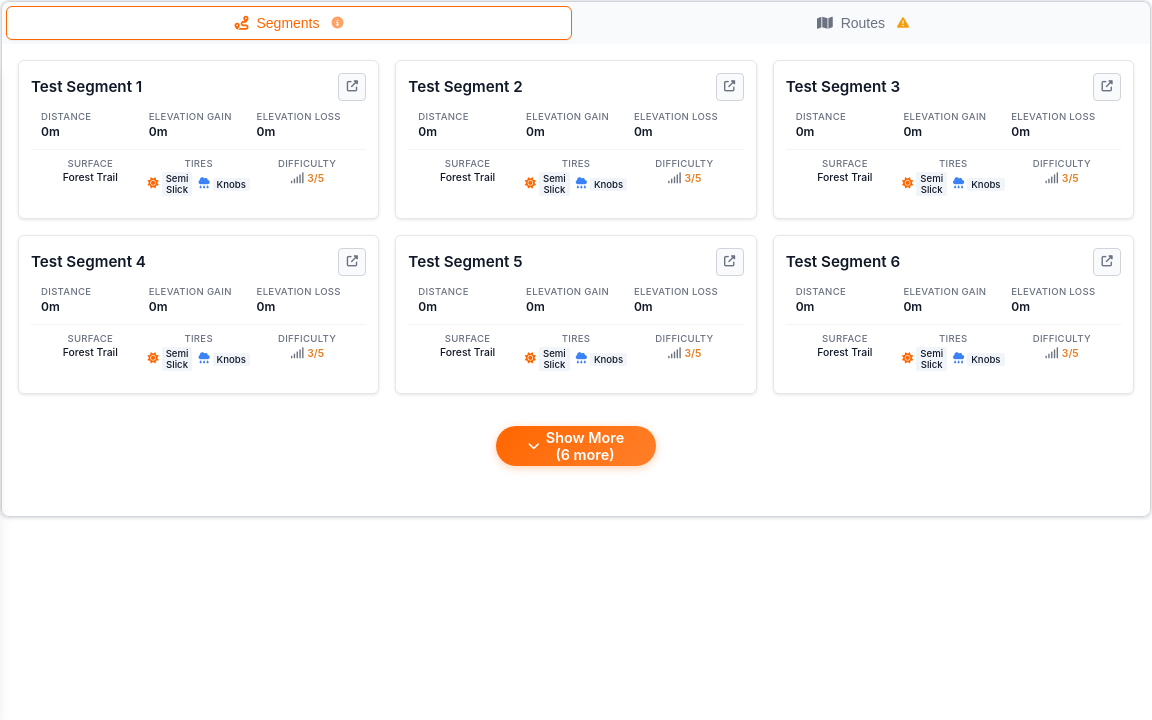
Test: SegmentList › Show More/Less Button Functionality › should show "Show Less" text when expanded
Click the button with class "show-more-button". click: (576,446)
box: [496, 426, 656, 466]
(page scrolled)
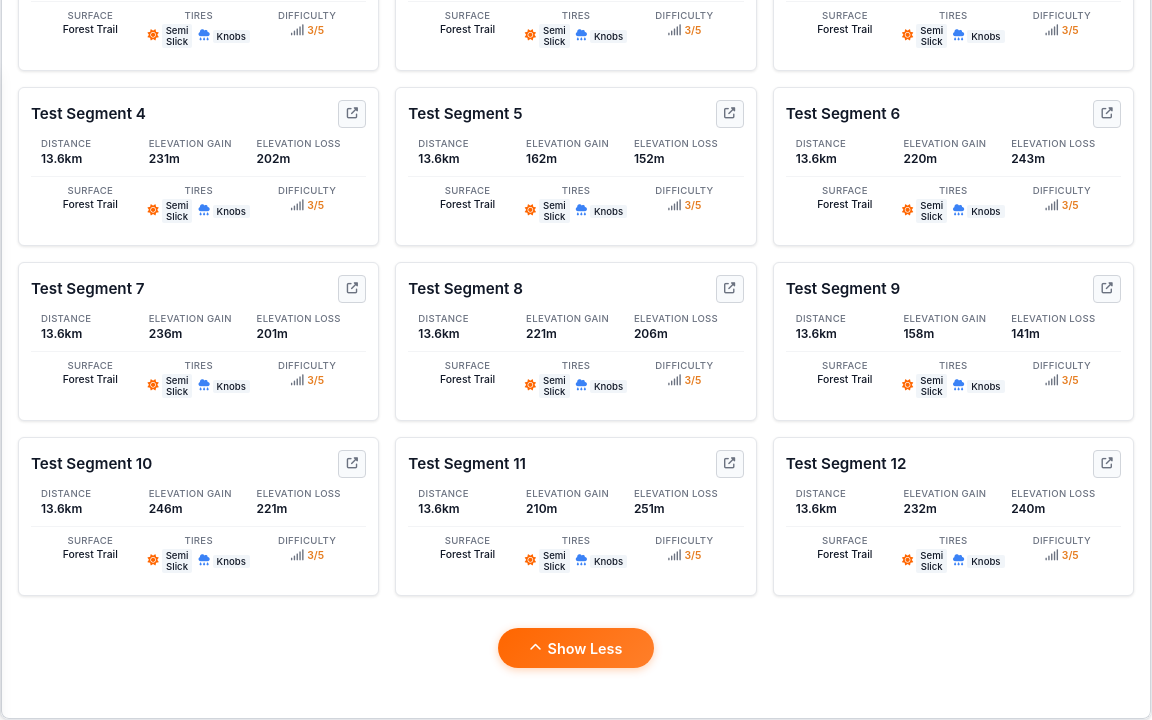
expect the button with class "show-more-button" reads "Show Less": met, box [498, 628, 654, 668]
